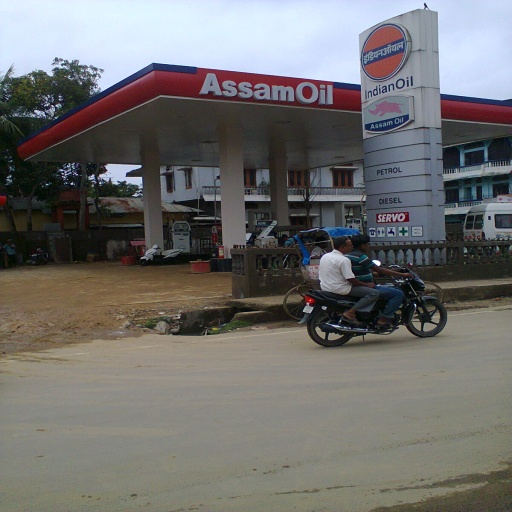roof: (15, 64, 512, 169)
